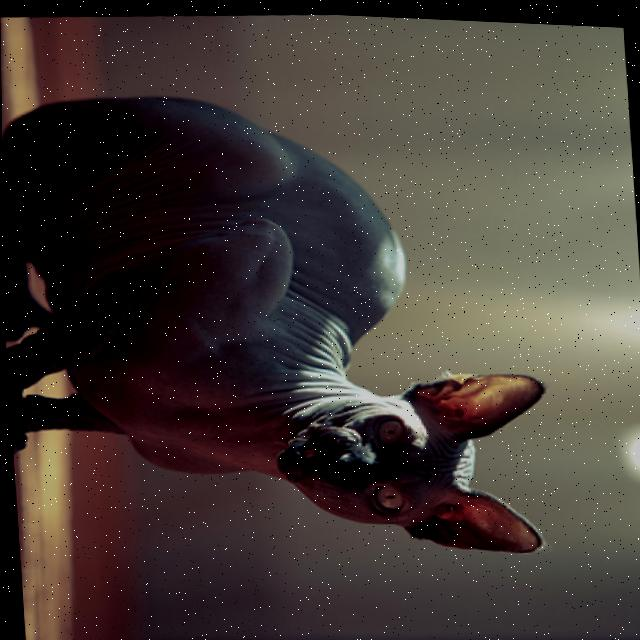Sphynx: (1, 64, 560, 579)
